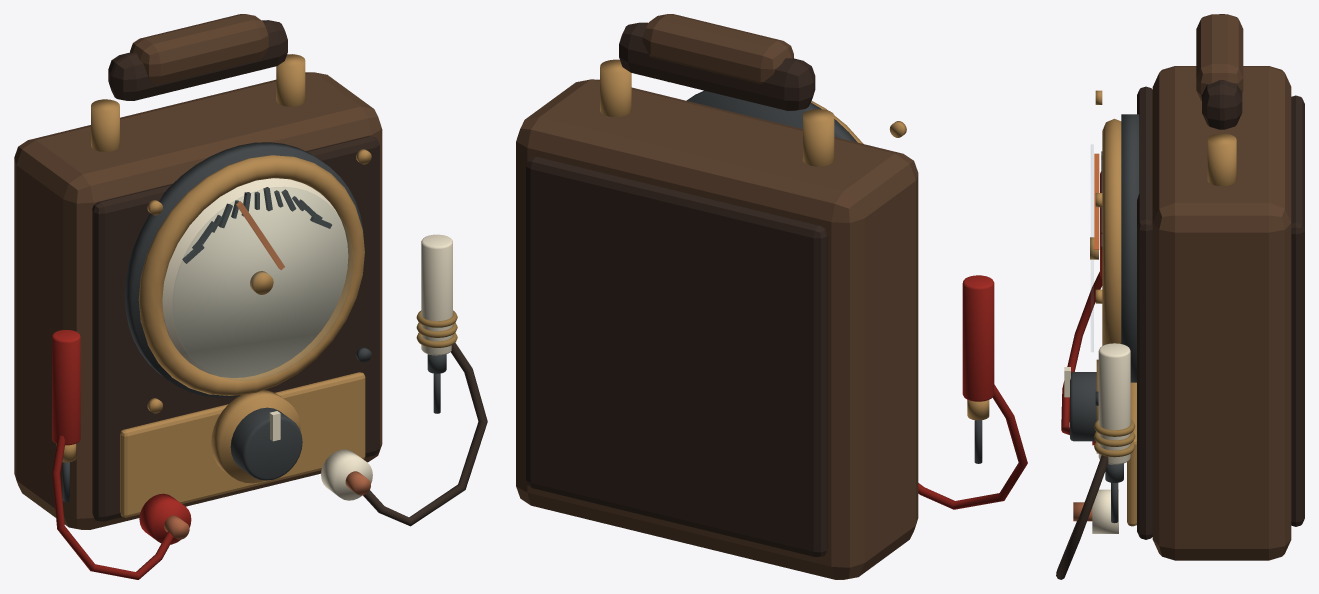
File: galvanoscope.glb
3 renders of one model, left to right at view 1: azimuth 30°, elevation 25°; view 2: azimuth 150°, elevation 25°; view 3: azimuth 270°, elevation 25°, orthographic. The views are drawn at different scales.
Parts seen in each view (by area): view 1: WoodBody, AgedBrassHardware, WoodEdgeAndHandle, DialGlass, DialIvory, DarkSteelDetails, ProbePaleRepairedVisual, ProbeRedVisual, SelectorVisual, PaleTerminal, RedTerminal; view 2: WoodEdgeAndHandle, WoodBody, ProbeRedVisual, AgedBrassHardware, DarkSteelDetails; view 3: WoodBody, WoodEdgeAndHandle, AgedBrassHardware, ProbePaleRepairedVisual, DarkSteelDetails, SelectorVisual, ProbeRedVisual, PaleTerminal, DialGlass, NeedleVisual.
Boxes of the visible parts, x1=… form: WoodBody: x1=14, y1=14, x2=382, y2=529; AgedBrassHardware: x1=91, y1=54, x2=371, y2=517; WoodEdgeAndHandle: x1=92, y1=20, x2=379, y2=521; DialGlass: x1=173, y1=187, x2=352, y2=380; DialIvory: x1=162, y1=178, x2=348, y2=377; DarkSteelDetails: x1=124, y1=142, x2=371, y2=397; ProbePaleRepairedVisual: x1=363, y1=234, x2=487, y2=526; ProbeRedVisual: x1=52, y1=330, x2=173, y2=579; SelectorVisual: x1=230, y1=407, x2=302, y2=480; PaleTerminal: x1=321, y1=449, x2=372, y2=500; RedTerminal: x1=139, y1=493, x2=191, y2=544; WoodEdgeAndHandle: x1=526, y1=22, x2=827, y2=557; WoodBody: x1=516, y1=14, x2=918, y2=579; ProbeRedVisual: x1=918, y1=275, x2=1027, y2=509; AgedBrassHardware: x1=600, y1=59, x2=906, y2=166; DarkSteelDetails: x1=686, y1=90, x2=857, y2=142; WoodBody: x1=1152, y1=14, x2=1291, y2=560; WoodEdgeAndHandle: x1=1137, y1=14, x2=1304, y2=539; AgedBrassHardware: x1=1090, y1=90, x2=1236, y2=526; ProbePaleRepairedVisual: x1=1056, y1=343, x2=1135, y2=579; DarkSteelDetails: x1=1095, y1=114, x2=1139, y2=405; SelectorVisual: x1=1064, y1=367, x2=1096, y2=441; ProbeRedVisual: x1=1061, y1=171, x2=1102, y2=434; PaleTerminal: x1=1073, y1=489, x2=1118, y2=533; DialGlass: x1=1091, y1=145, x2=1093, y2=351; NeedleVisual: x1=1094, y1=153, x2=1099, y2=249.
Bounding box in the file's own units: 0.2217 × 0.2331 × 0.1112.
